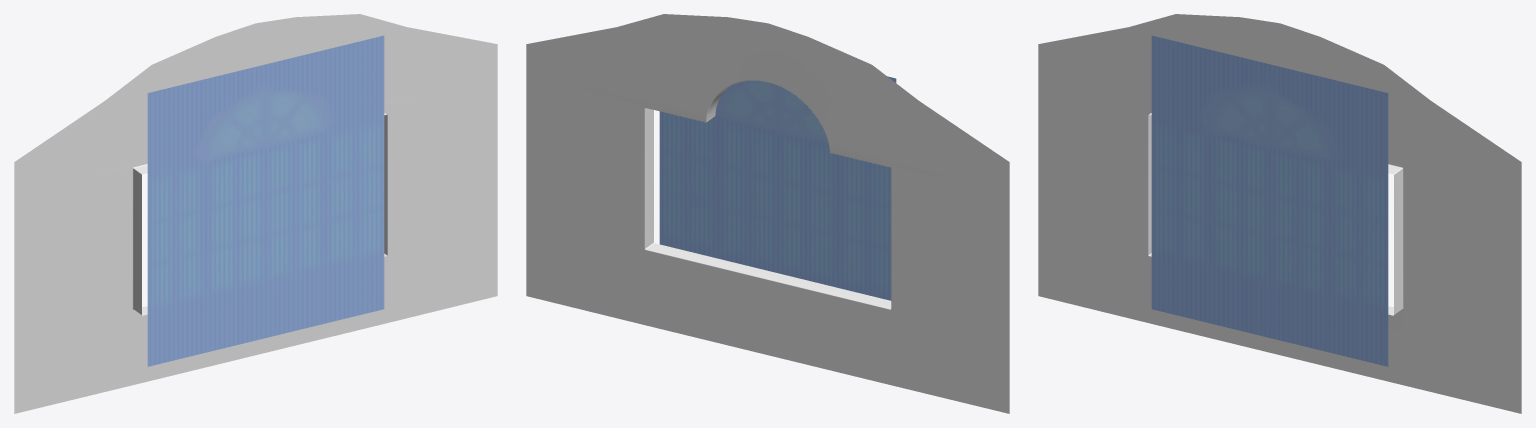
Rendered from BoardCafeA_SideWallA.fbx.
3 views of the same model, side by side, from view 1: azimuth 30°, elevation 25°; view 2: azimuth 150°, elevation 25°; view 3: azimuth 330°, elevation 25° (orthographic).
Parts seen in each view (by area): view 1: BoardCafeA_SideWallA; view 2: BoardCafeA_SideWallA; view 3: BoardCafeA_SideWallA.
Boxes of the visible parts, x1,y1,x2,y2 form: BoardCafeA_SideWallA: (14, 14, 497, 413); BoardCafeA_SideWallA: (526, 14, 1009, 413); BoardCafeA_SideWallA: (1038, 14, 1521, 413).
Bounding box in the file's own units: 612 × 401 × 21.93.
